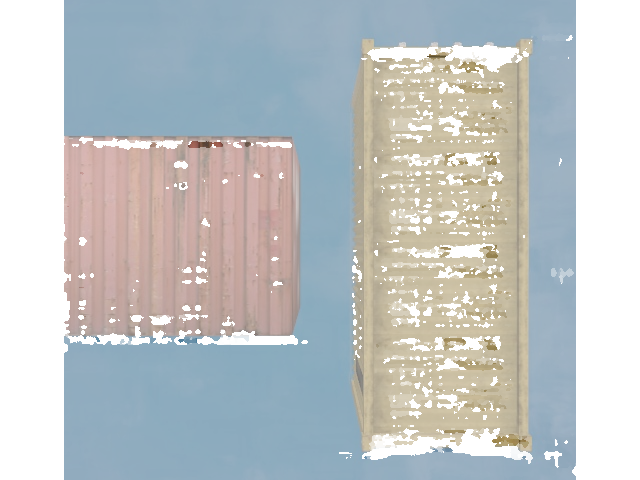container3: (352, 35, 538, 453)
container4: (0, 130, 309, 340)
